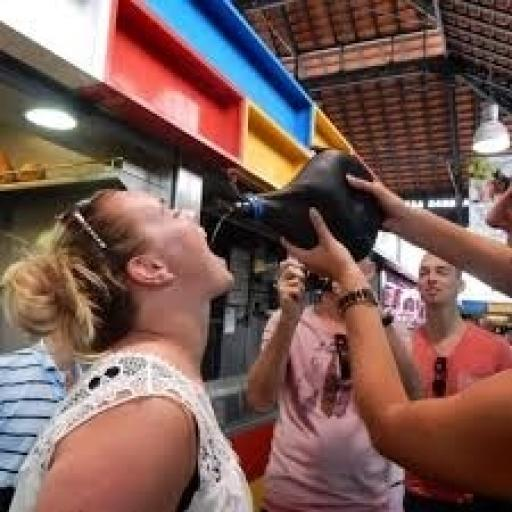drinking: (212, 146, 382, 266)
